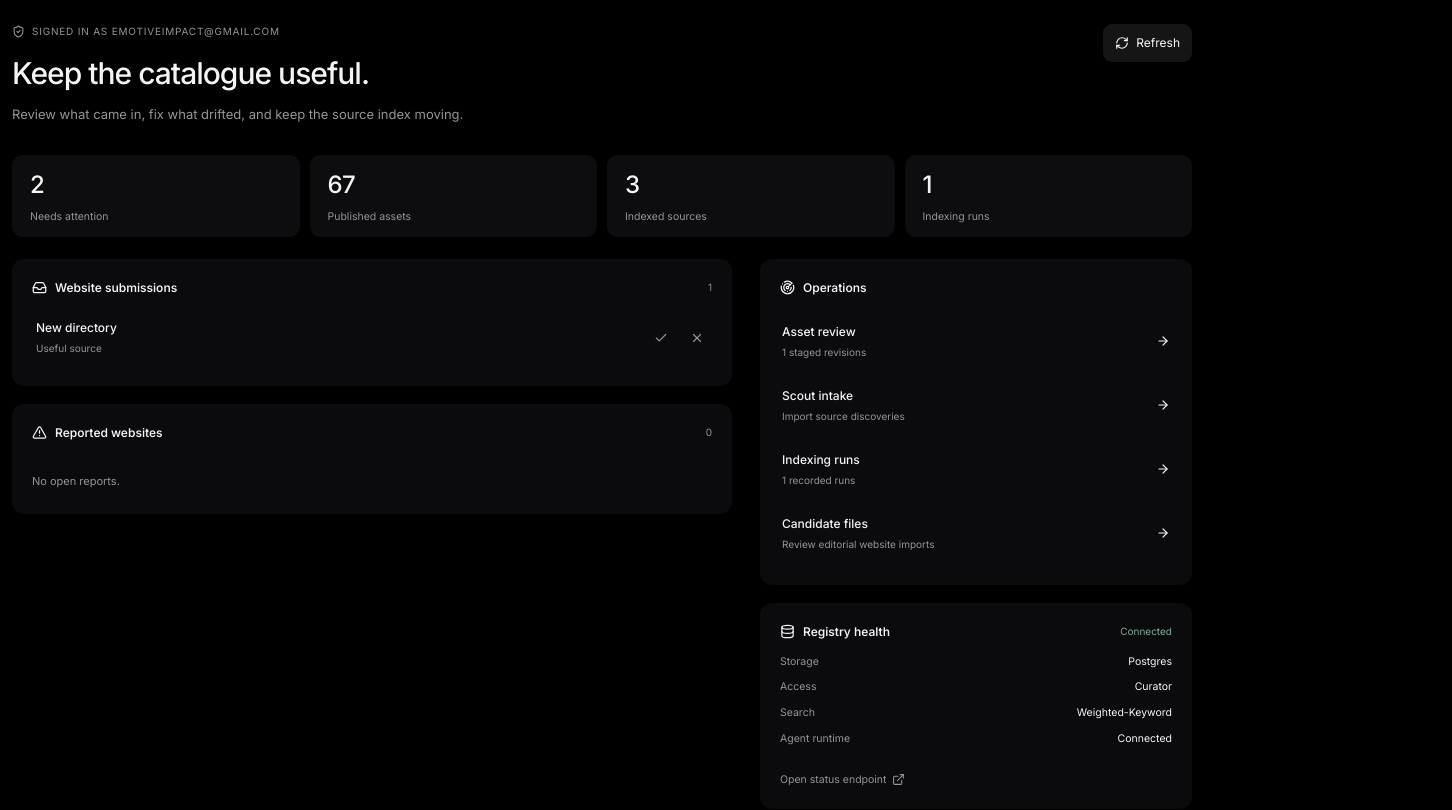
Test: loads live admin queues and persists submission decisions
Expected: the text "67" is shown, 328,170 -> 355,199
Expected: the text "Connected" is shown 2 times, 1120,624 -> 1172,639; 1118,731 -> 1172,747
Step 1. Click the button named "Approve New directory" → {"x": 661, "y": 338}, box 646,322 -> 676,352
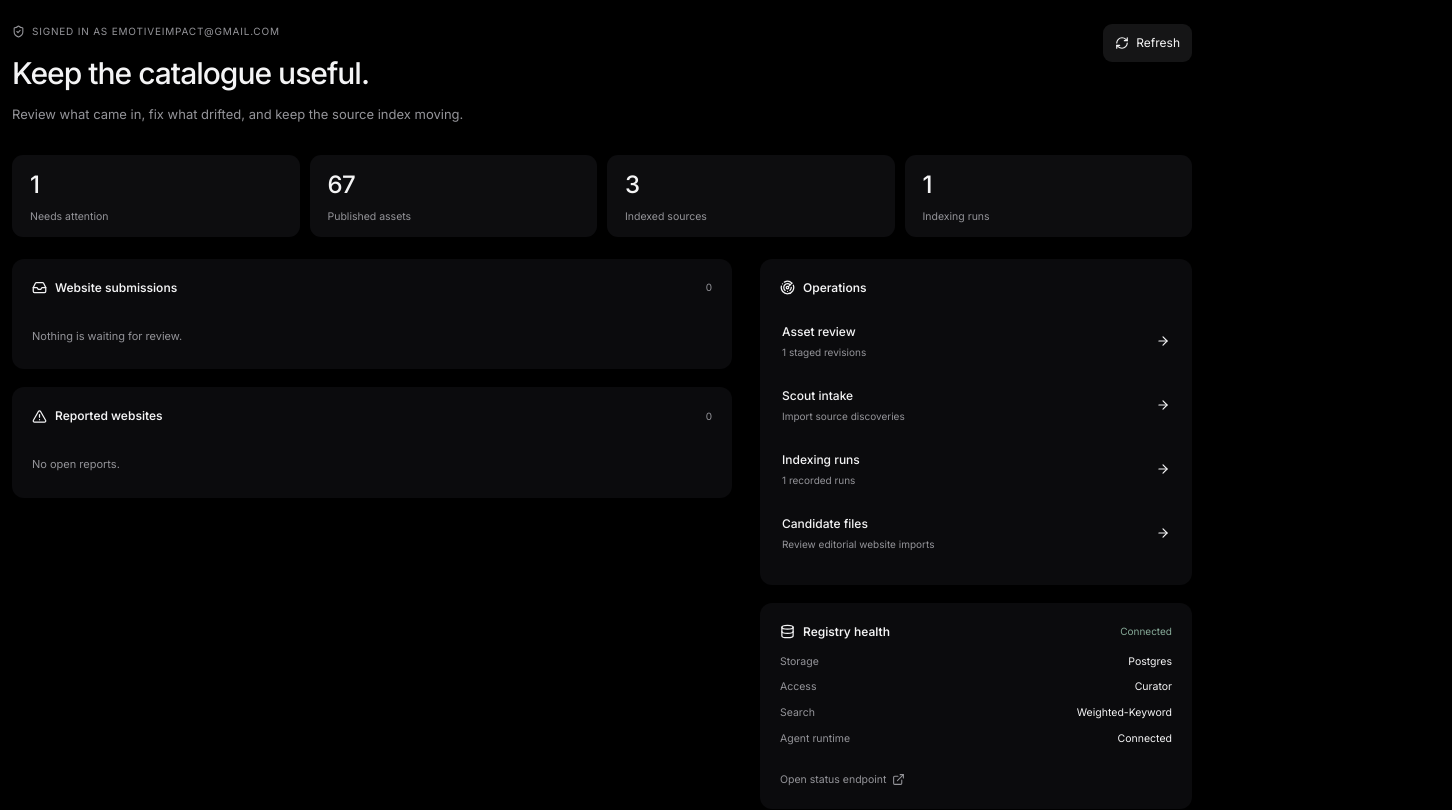
Now the text "Nothing is waiting for review." is shown, box 32,328 -> 182,342
